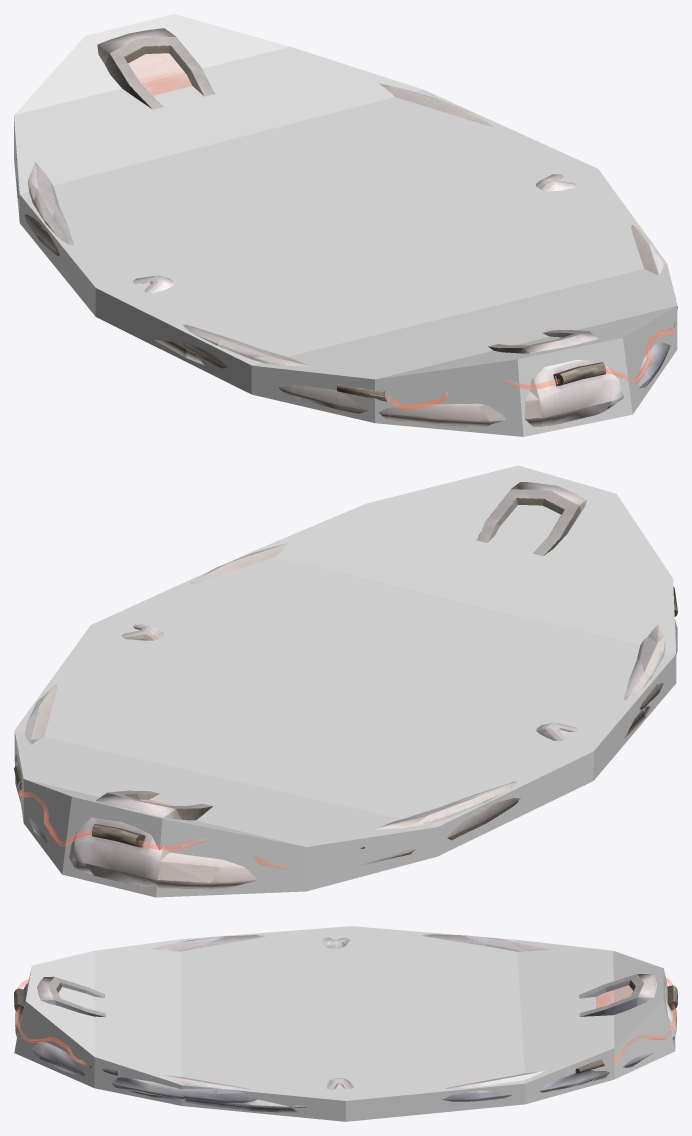
Rendered from OperationalPlatform.glb.
The picture shows the model from 3 angles, top to bottom: view 1: azimuth 30°, elevation 25°; view 2: azimuth 150°, elevation 25°; view 3: azimuth 270°, elevation 25°; orthographic projection. The views are drawn at different scales.
Visible parts, largest first — view 1: Cube, 平面.003; view 2: Cube, 平面.003; view 3: Cube, 平面.003.
Part boxes in pixels (x1,y1,x2,y2): Cube: [14, 14, 677, 436]; 平面.003: [16, 28, 677, 427]; Cube: [14, 465, 676, 897]; 平面.003: [14, 482, 677, 889]; Cube: [14, 926, 675, 1121]; 平面.003: [14, 934, 677, 1113].
Bounding box in the file's own units: 6.58 × 0.8996 × 10.55.
Materials: 2 (2 with a texture image).
